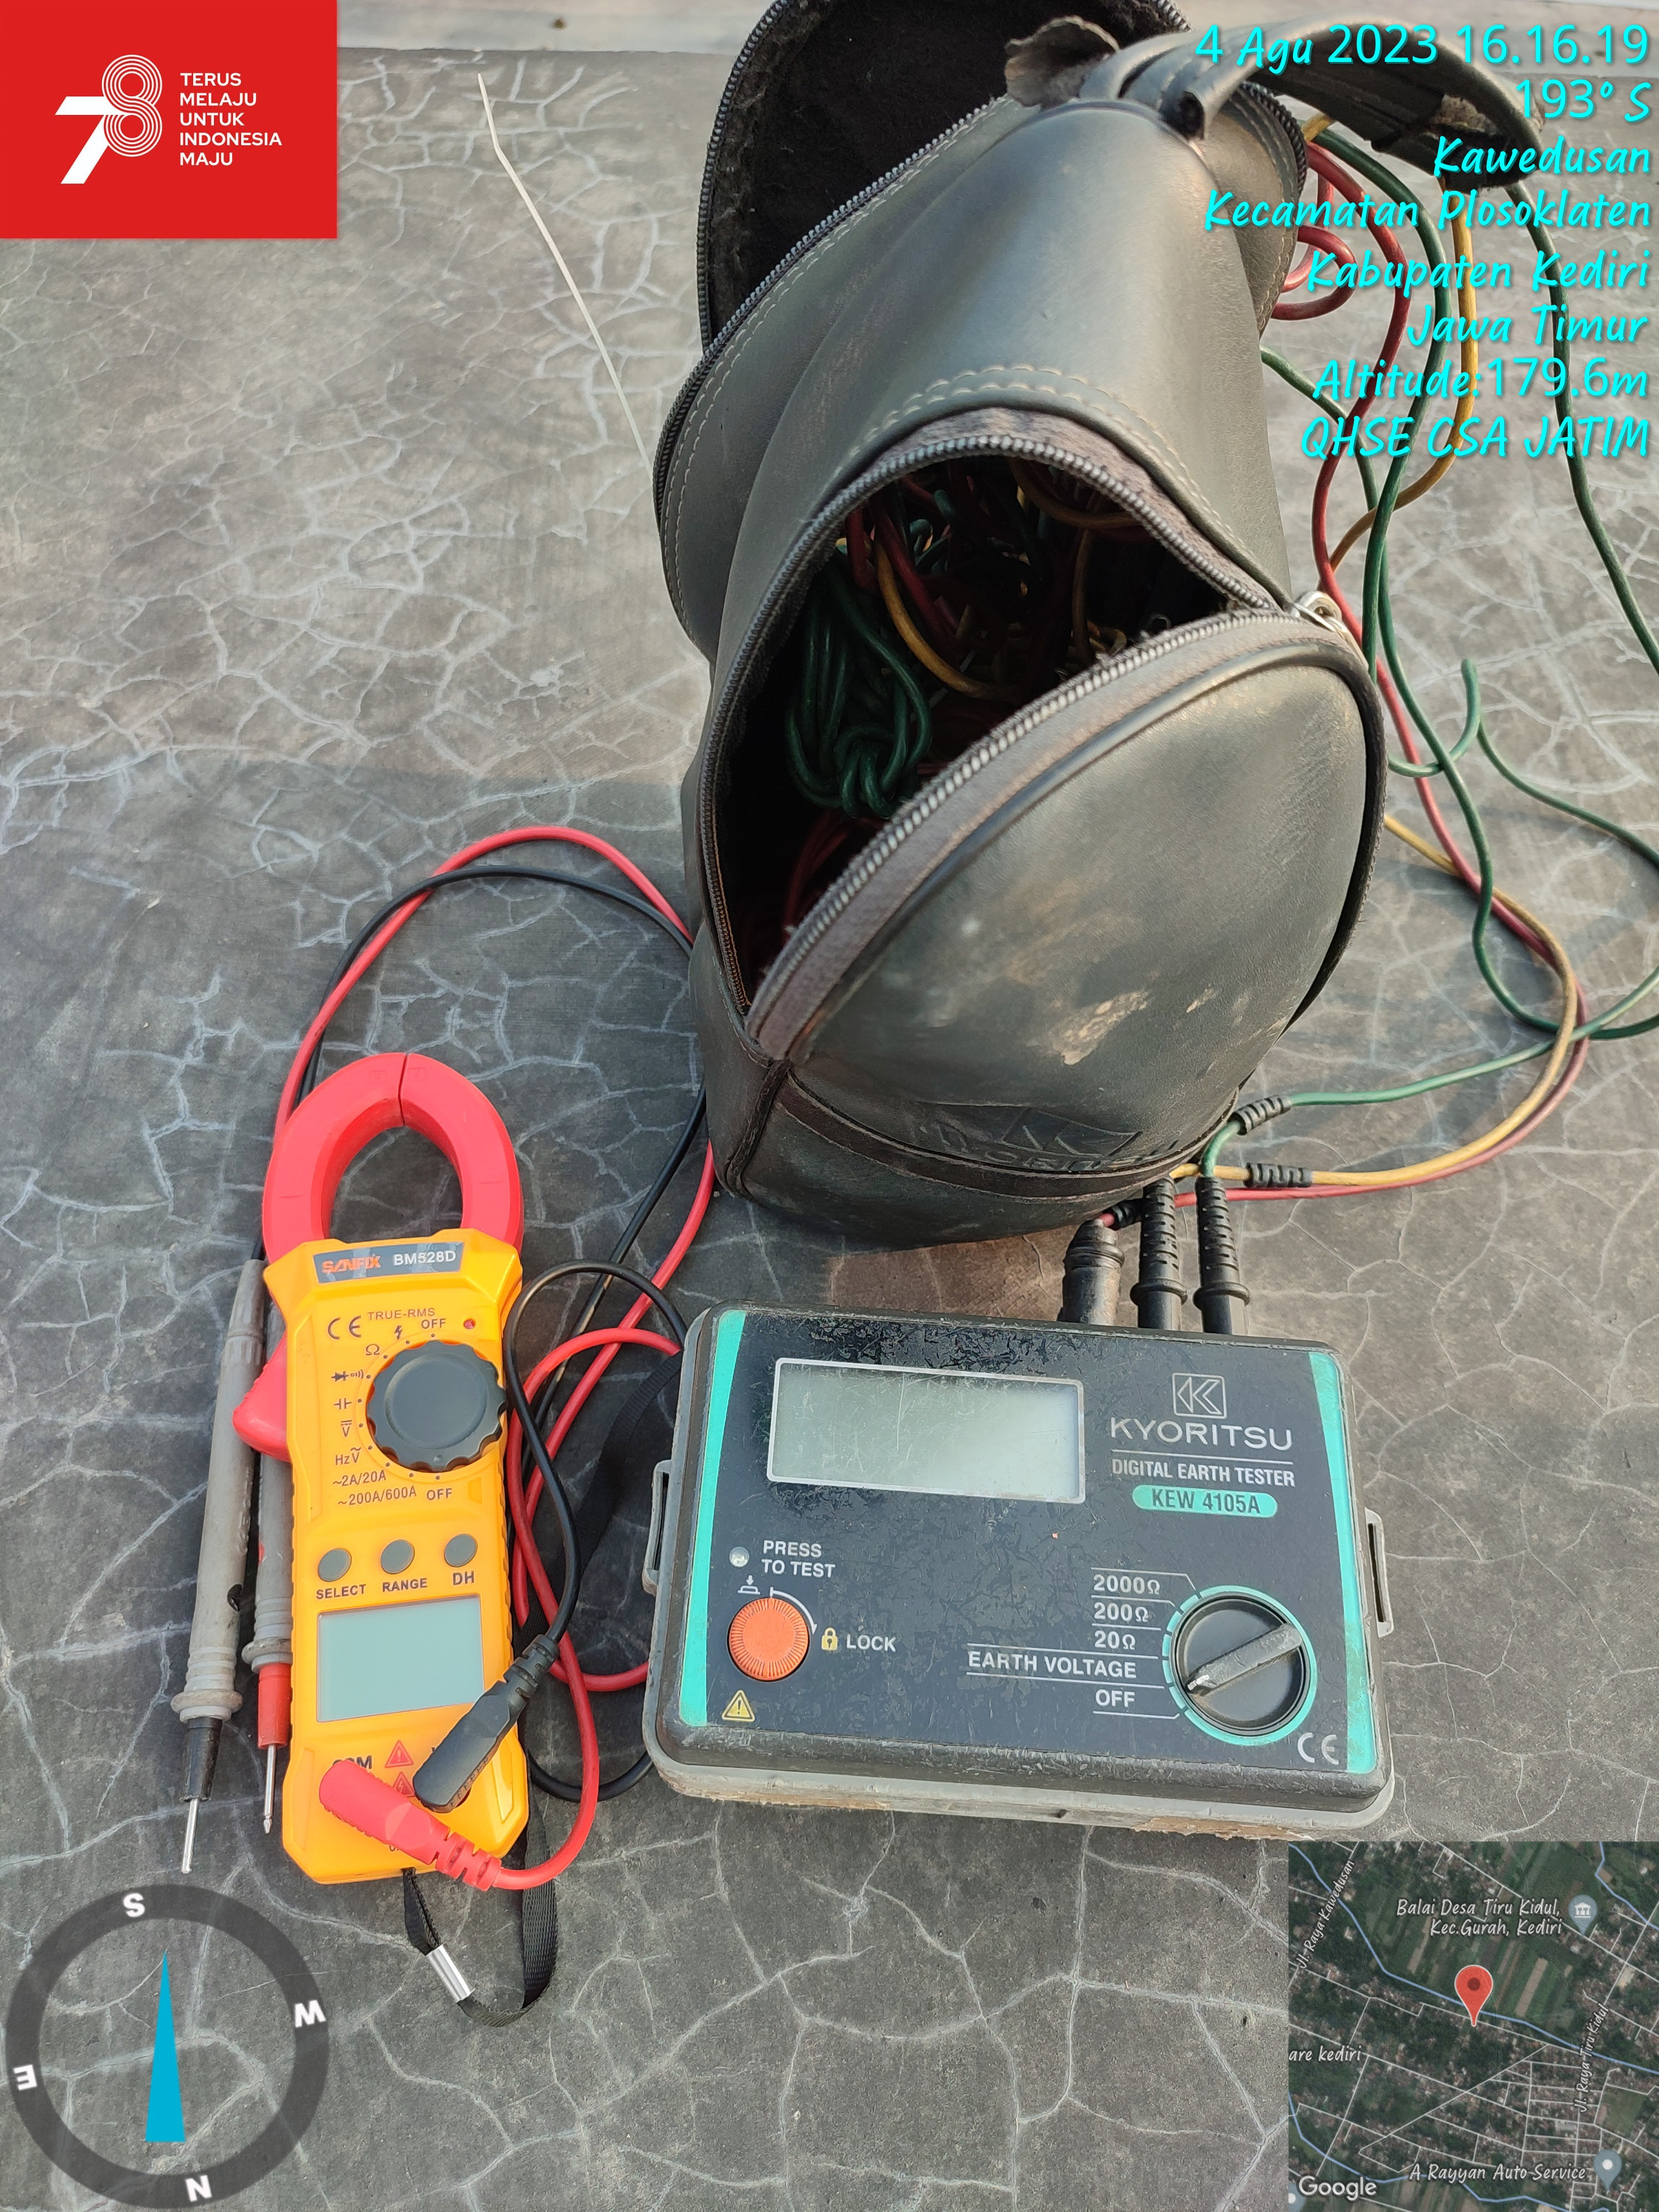EARTH_GROUNDING_TESTER: (640, 1299, 1394, 1841)
TANG_AMPERE: (227, 1047, 535, 1888)
